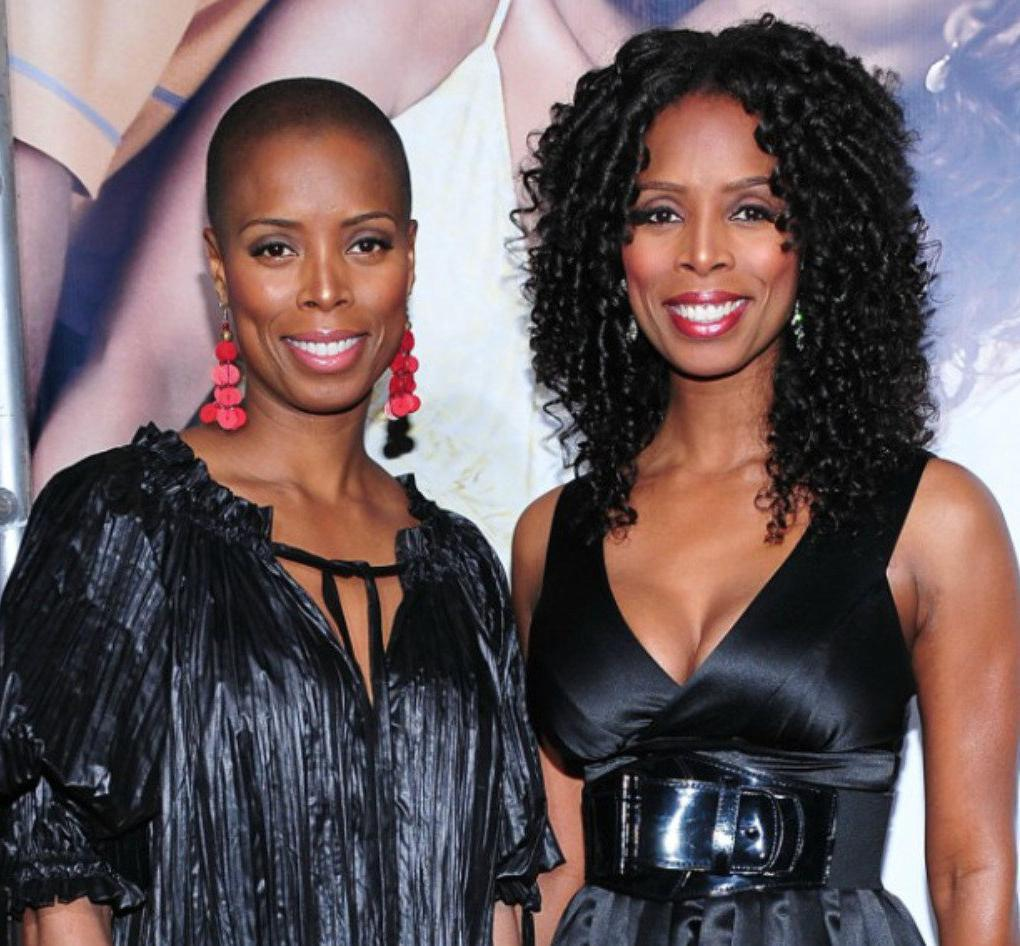Sober: (223, 136, 401, 393), (627, 112, 789, 353)
